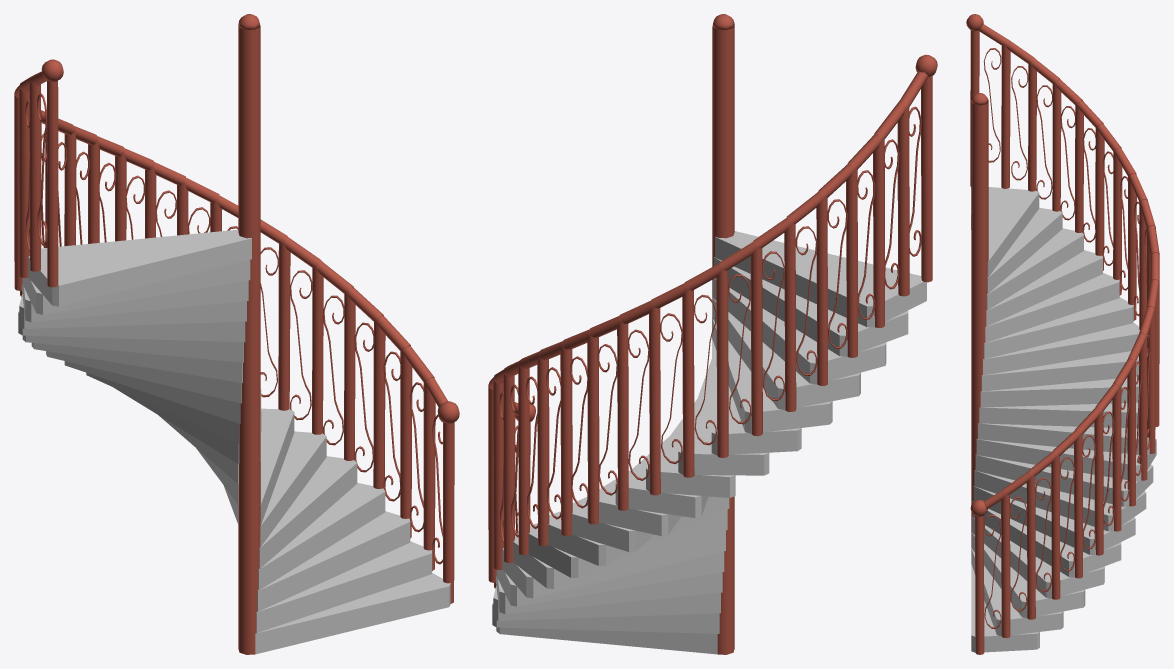
File: SpiralStaircase-Atl.fbx
3 views of the same model, side by side, from view 1: azimuth 30°, elevation 25°; view 2: azimuth 150°, elevation 25°; view 3: azimuth 270°, elevation 25° (orthographic). The views are drawn at different scales.
Visible parts, largest first — view 1: Step, SpiralStaircase v2, FinalRail1, FinalRail2; view 2: Step, SpiralStaircase v2, FinalRail1, FinalRail2; view 3: Step, SpiralStaircase v2, FinalRail1, FinalRail2.
Boxes of the visible parts, bbox=[...] form: Step: bbox=[14, 76, 454, 654]; SpiralStaircase v2: bbox=[238, 24, 260, 654]; FinalRail1: bbox=[29, 71, 47, 271]; FinalRail2: bbox=[47, 80, 58, 287]; Step: bbox=[488, 101, 926, 654]; SpiralStaircase v2: bbox=[712, 25, 734, 654]; FinalRail1: bbox=[897, 71, 927, 296]; FinalRail2: bbox=[921, 76, 932, 282]; Step: bbox=[971, 39, 1159, 654]; SpiralStaircase v2: bbox=[971, 102, 988, 547]; FinalRail1: bbox=[978, 24, 1010, 188]; FinalRail2: bbox=[970, 30, 979, 186].
Size of what is drawn, in the model's own units: 421 by 615 by 220.
